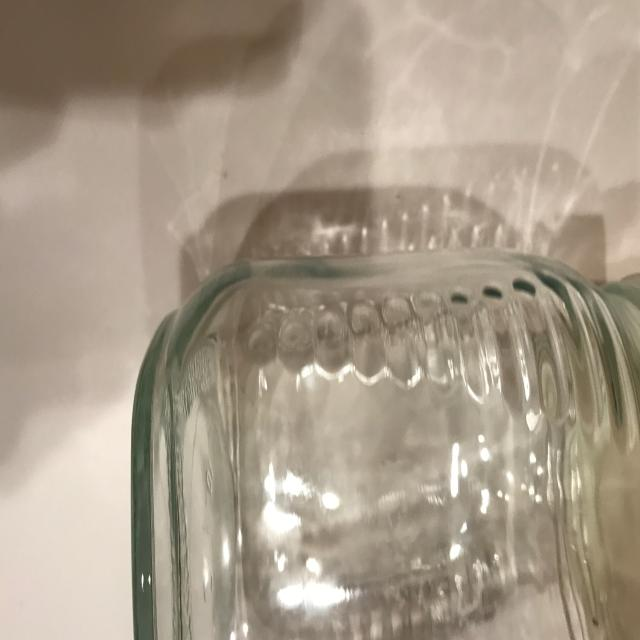glass: (98, 223, 640, 640)
